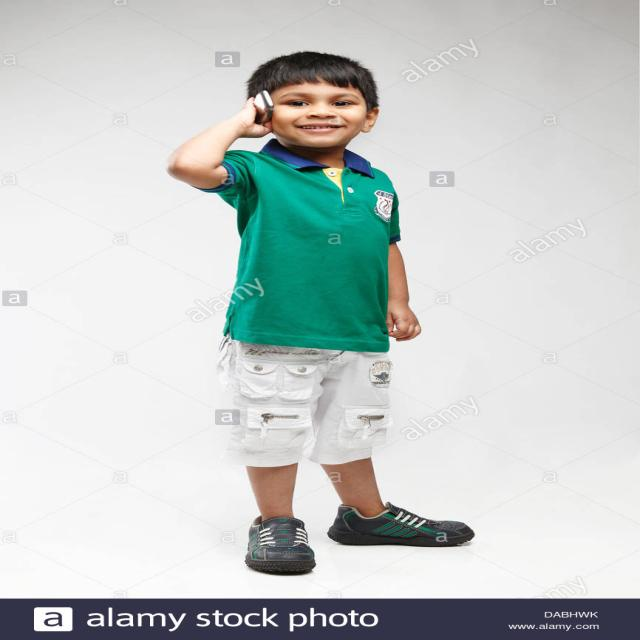child: (140, 36, 505, 587)
